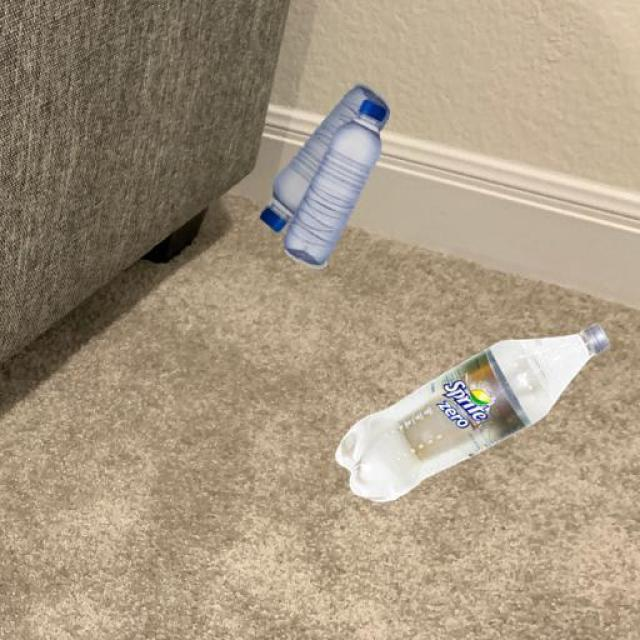bottle: (323, 310, 625, 505), (255, 87, 395, 270)
